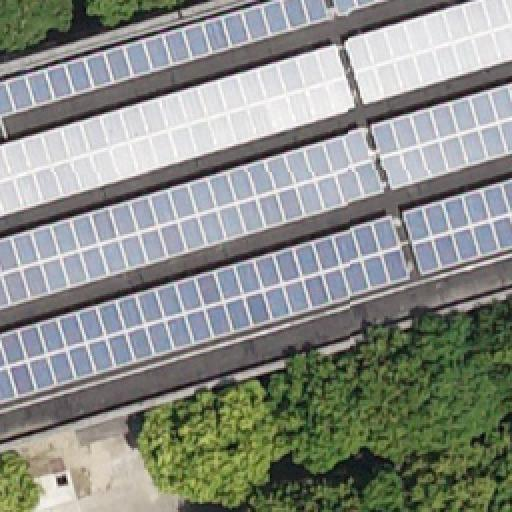solar-panel: (0, 213, 410, 403), (1, 128, 383, 312), (0, 44, 356, 220), (0, 0, 328, 122), (344, 0, 512, 104), (369, 81, 511, 191), (401, 180, 511, 276), (333, 0, 387, 16)
